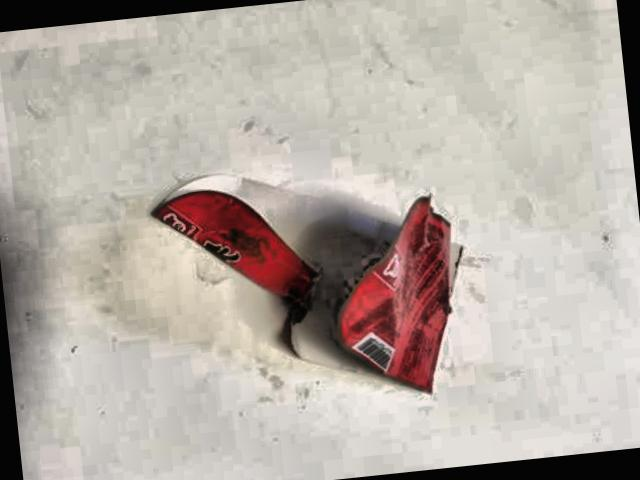Paper: (125, 127, 496, 442)
